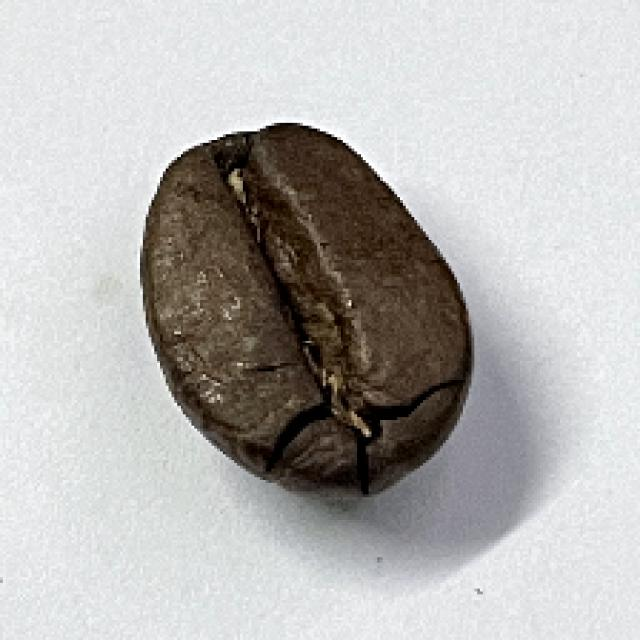bean: (134, 118, 477, 502)
